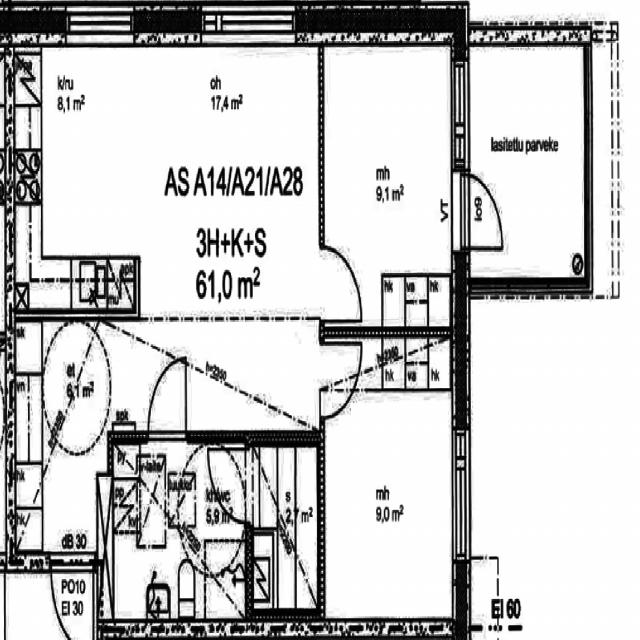door: (452, 173, 508, 250), (51, 553, 94, 640), (148, 356, 187, 444), (317, 245, 363, 319), (207, 448, 253, 522), (317, 343, 363, 416)
